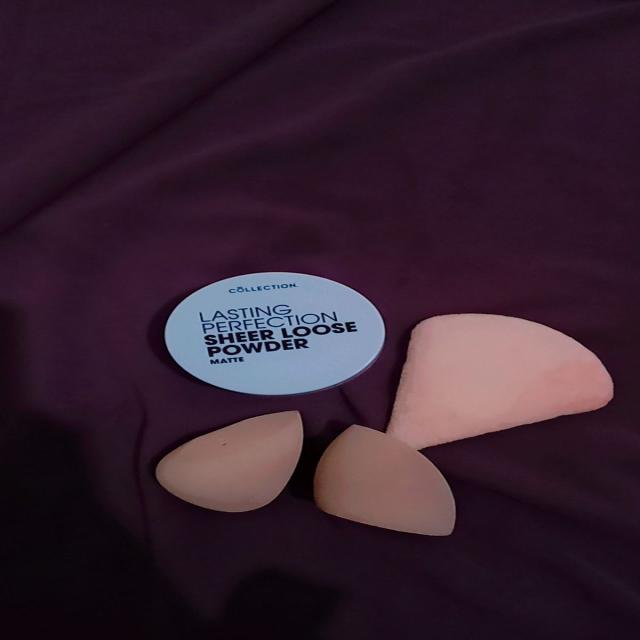beauty blender: (380, 299, 623, 459), (292, 422, 484, 550), (155, 392, 309, 530)
